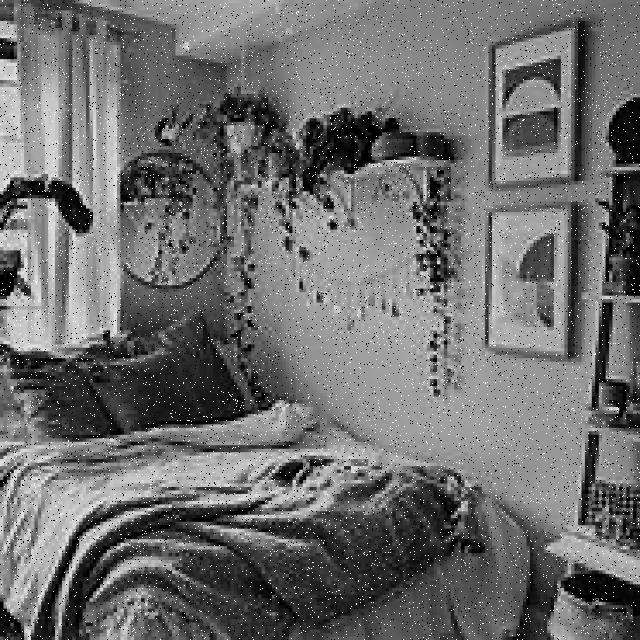bed: (6, 312, 524, 640)
